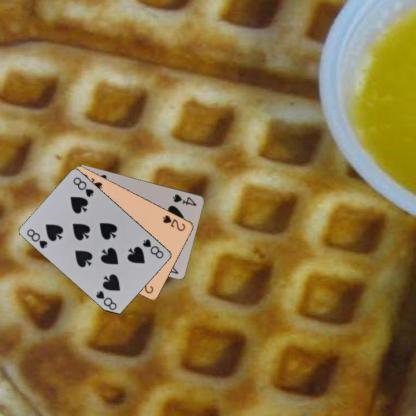2s: (160, 212, 187, 232)
4s: (170, 191, 198, 207)
8s: (140, 236, 166, 260), (24, 226, 49, 249)
